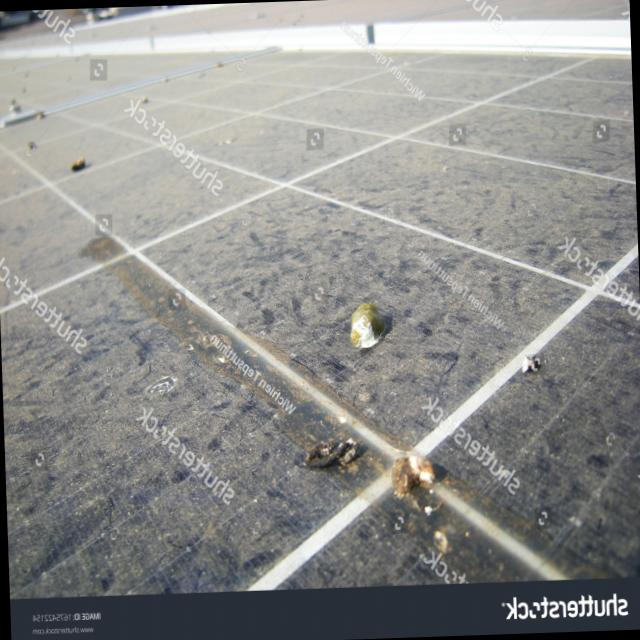faulty: (0, 55, 640, 598)
